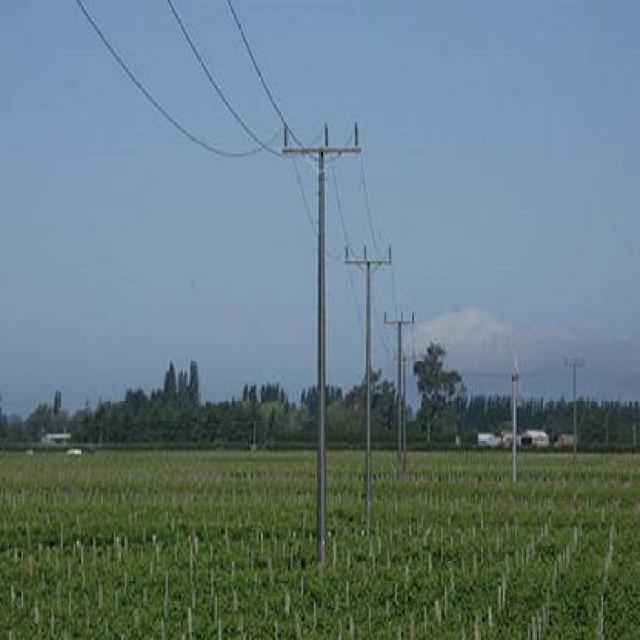pole: (262, 108, 371, 548), (337, 232, 389, 471)
